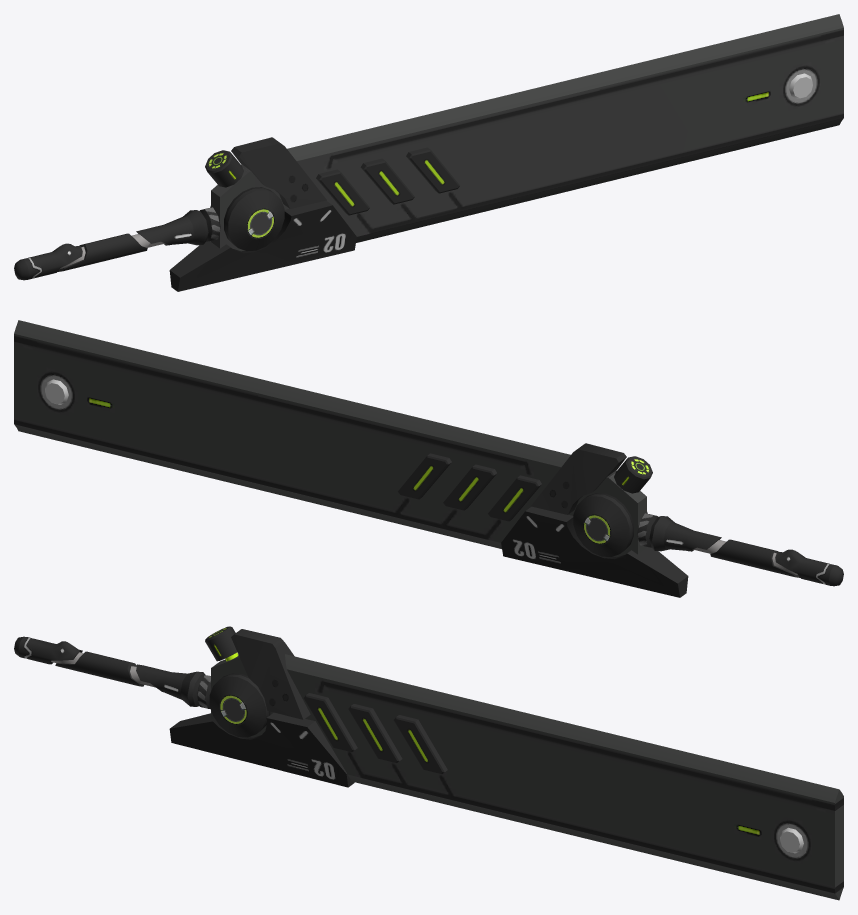
The model's file is E2ClaymoreMd050011.fbx.
The picture shows the model from 3 angles, top to bottom: view 1: azimuth 30°, elevation 25°; view 2: azimuth 150°, elevation 25°; view 3: azimuth 330°, elevation 25°; orthographic projection.
Parts seen in each view (by area): view 1: E2ClaymoreMd050011; view 2: E2ClaymoreMd050011; view 3: E2ClaymoreMd050011.
Part boxes in pixels (x1,y1,x2,y2): E2ClaymoreMd050011: (14,14,843,291); E2ClaymoreMd050011: (14,320,843,597); E2ClaymoreMd050011: (14,626,843,900).
Size of the model in its own units: 1.83 by 0.2685 by 0.1048.
Materials: 1 (1 with a texture image).
